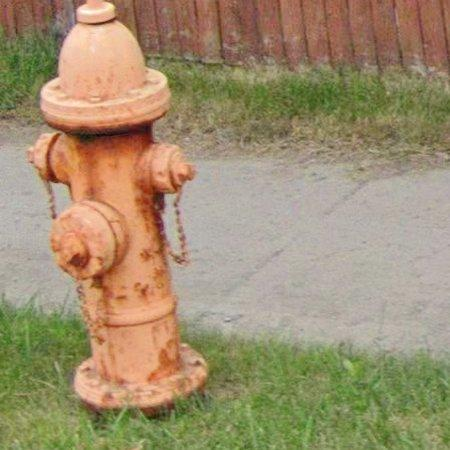a fire hydrant: (27, 0, 208, 413)
